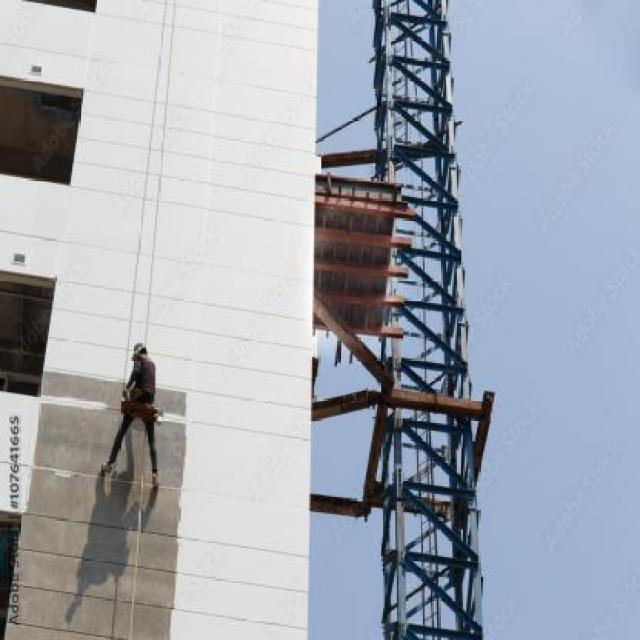Harness: (118, 388, 160, 426)
